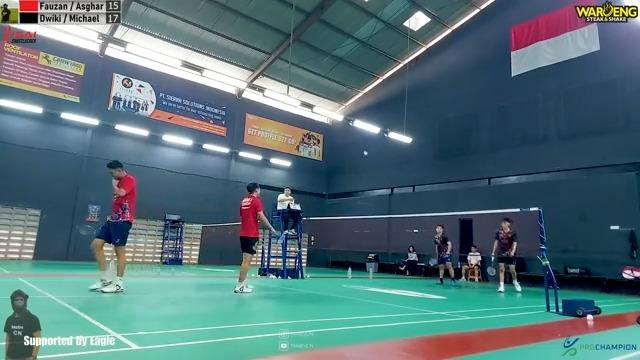Shuttlecock: (361, 148, 369, 156)
